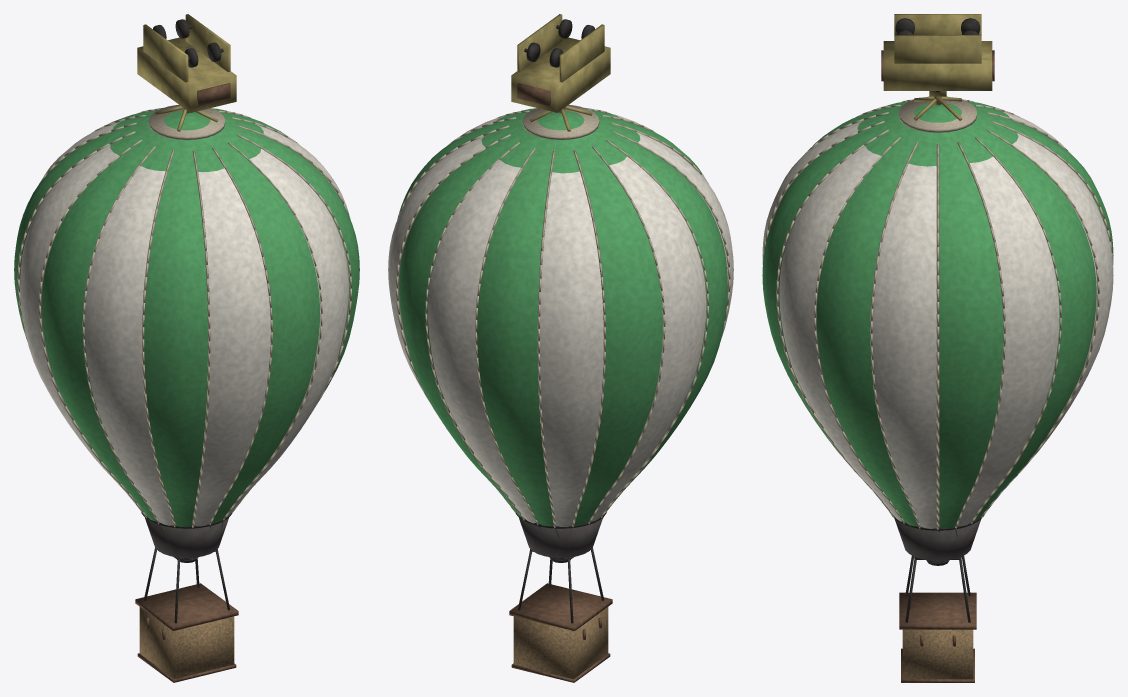
The model's file is BalloonRail_Green.fbx.
3 renders of one model, left to right at view 1: azimuth 30°, elevation 25°; view 2: azimuth 150°, elevation 25°; view 3: azimuth 270°, elevation 25°, orthographic. The views are drawn at different scales.
Parts seen in each view (by area): view 1: Swing_S_Envelope_Green, Swing_S_EnvelopeStripe_Green, Swing_S_Rope, Static_S_Bogie, Swing_S_Wicker, Swing_S_Leather, Swing_S_SkirtDark, Swing_S_SteelWorn, Static_S_SteelWorn, Static_S_Leather; view 2: Swing_S_Envelope_Green, Swing_S_EnvelopeStripe_Green, Swing_S_Rope, Static_S_Bogie, Swing_S_Wicker, Swing_S_Leather, Swing_S_SkirtDark, Swing_S_SteelWorn, Static_S_SteelWorn, Static_S_Leather; view 3: Swing_S_Envelope_Green, Swing_S_EnvelopeStripe_Green, Swing_S_Rope, Static_S_Bogie, Swing_S_Wicker, Swing_S_Leather, Swing_S_SkirtDark, Swing_S_SteelWorn, Static_S_SteelWorn.
Part boxes in pixels (<box>): Swing_S_Envelope_Green: <box>14,108,359,527</box>; Swing_S_EnvelopeStripe_Green: <box>20,111,350,526</box>; Swing_S_Rope: <box>17,104,351,527</box>; Static_S_Bogie: <box>137,14,236,112</box>; Swing_S_Wicker: <box>139,607,234,678</box>; Swing_S_Leather: <box>135,583,238,682</box>; Swing_S_SkirtDark: <box>145,518,228,557</box>; Swing_S_SteelWorn: <box>141,512,231,623</box>; Static_S_SteelWorn: <box>153,19,223,67</box>; Static_S_Leather: <box>197,83,230,105</box>; Swing_S_Envelope_Green: <box>397,108,727,526</box>; Swing_S_EnvelopeStripe_Green: <box>388,113,733,527</box>; Swing_S_Rope: <box>396,104,730,527</box>; Static_S_Bogie: <box>511,14,610,112</box>; Swing_S_Wicker: <box>513,607,608,678</box>; Swing_S_Leather: <box>509,583,612,682</box>; Swing_S_SkirtDark: <box>519,518,602,557</box>; Swing_S_SteelWorn: <box>516,512,606,623</box>; Static_S_SteelWorn: <box>524,19,594,67</box>; Static_S_Leather: <box>517,83,550,105</box>; Swing_S_Envelope_Green: <box>762,101,1113,528</box>; Swing_S_EnvelopeStripe_Green: <box>762,103,1113,528</box>; Swing_S_Rope: <box>763,96,1112,529</box>; Static_S_Bogie: <box>883,14,992,96</box>; Swing_S_Wicker: <box>902,629,973,679</box>; Swing_S_Leather: <box>899,592,976,682</box>; Swing_S_SkirtDark: <box>894,519,981,560</box>; Swing_S_SteelWorn: <box>891,515,984,622</box>; Static_S_SteelWorn: <box>895,18,980,92</box>.
Bounding box in the file's own units: 6.45 × 13.03 × 6.45.
